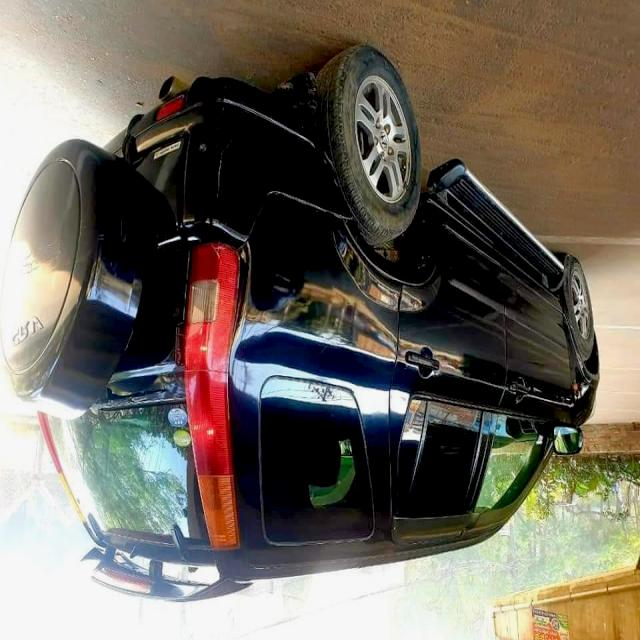black: (4, 61, 595, 595)
